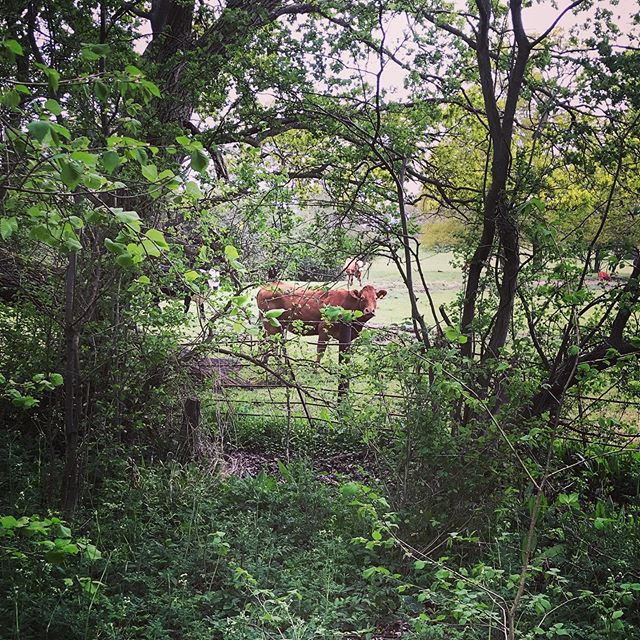animal: (250, 271, 391, 350)
vegetation: (1, 1, 631, 628)
